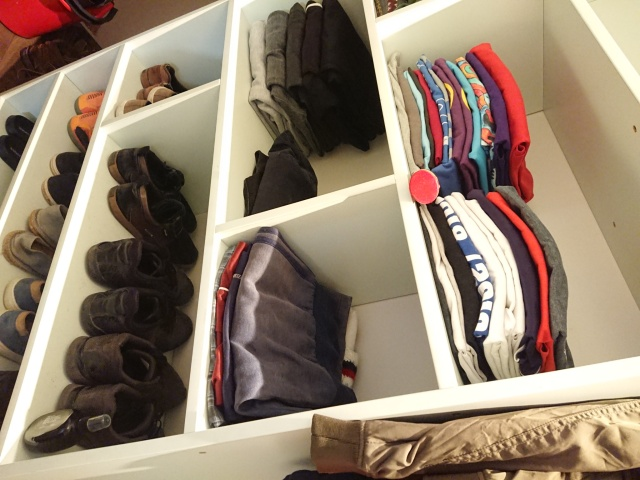Kotanyi Curry Spices Mix 70g: (407, 167, 442, 206)
